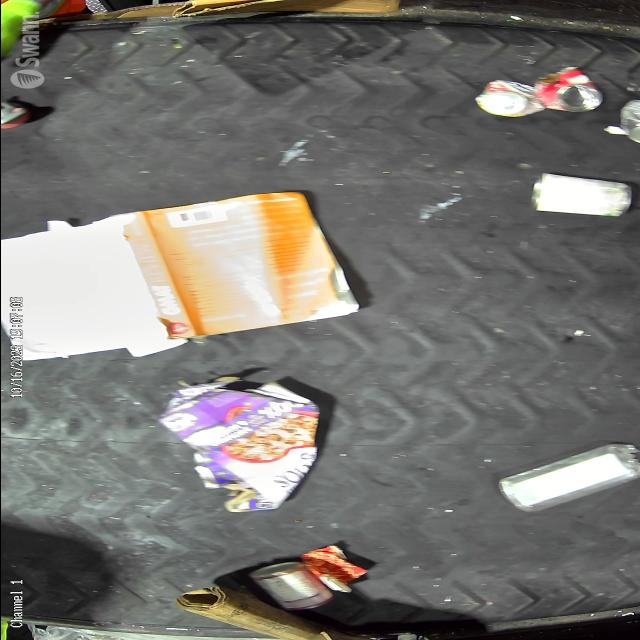can: (528, 172, 634, 217), (245, 560, 336, 612), (534, 65, 603, 113), (472, 78, 543, 118)
plastic_bottle: (494, 442, 640, 512)
